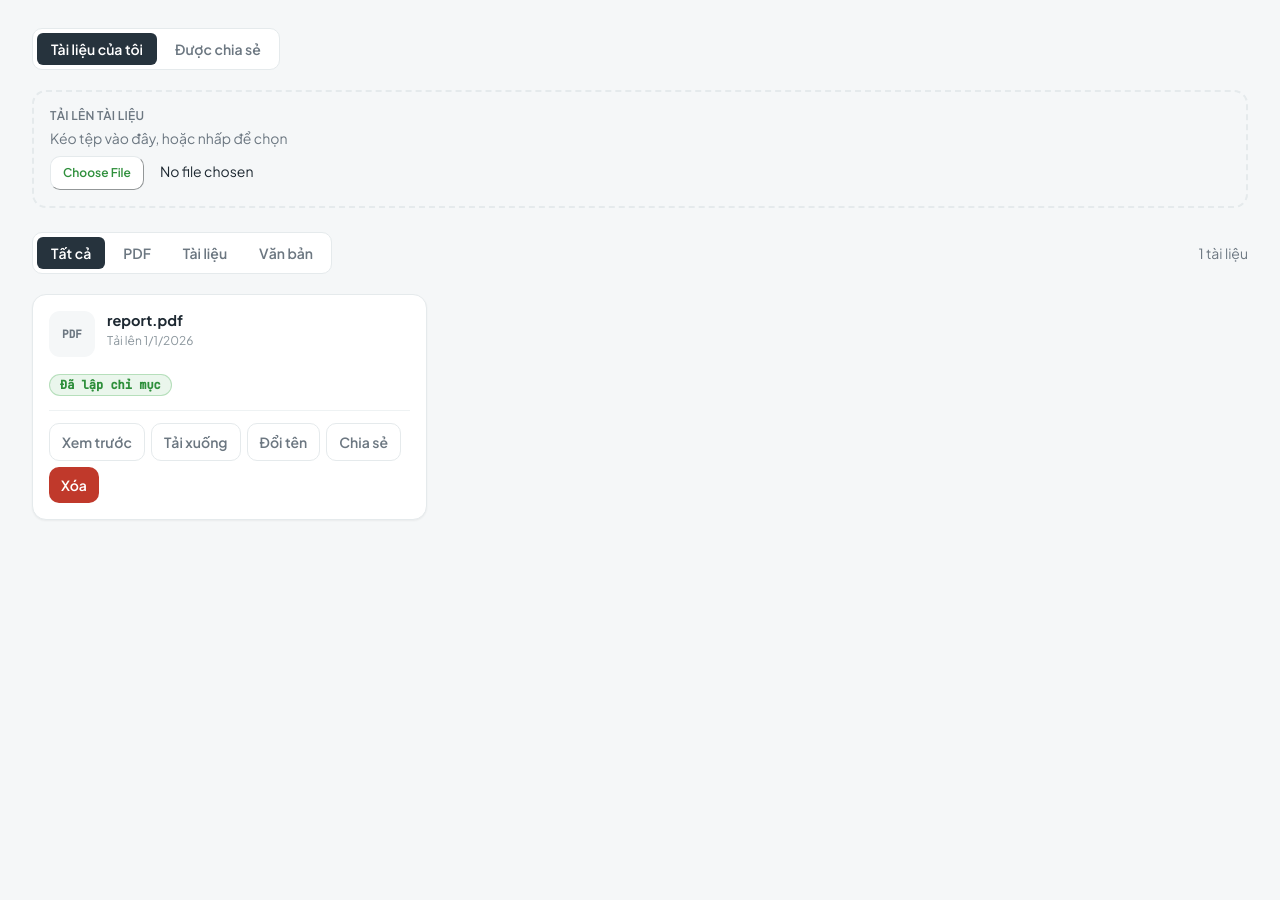
Test: DocumentsPage › opens the share modal and shares a document with a team
This screenshot has width=1280, height=900.
Check: the text "report.pdf" is shown, box [107,311,183,329]
Click the button "Chia sẻ".
click(364, 442)  # box [326,423,401,461]
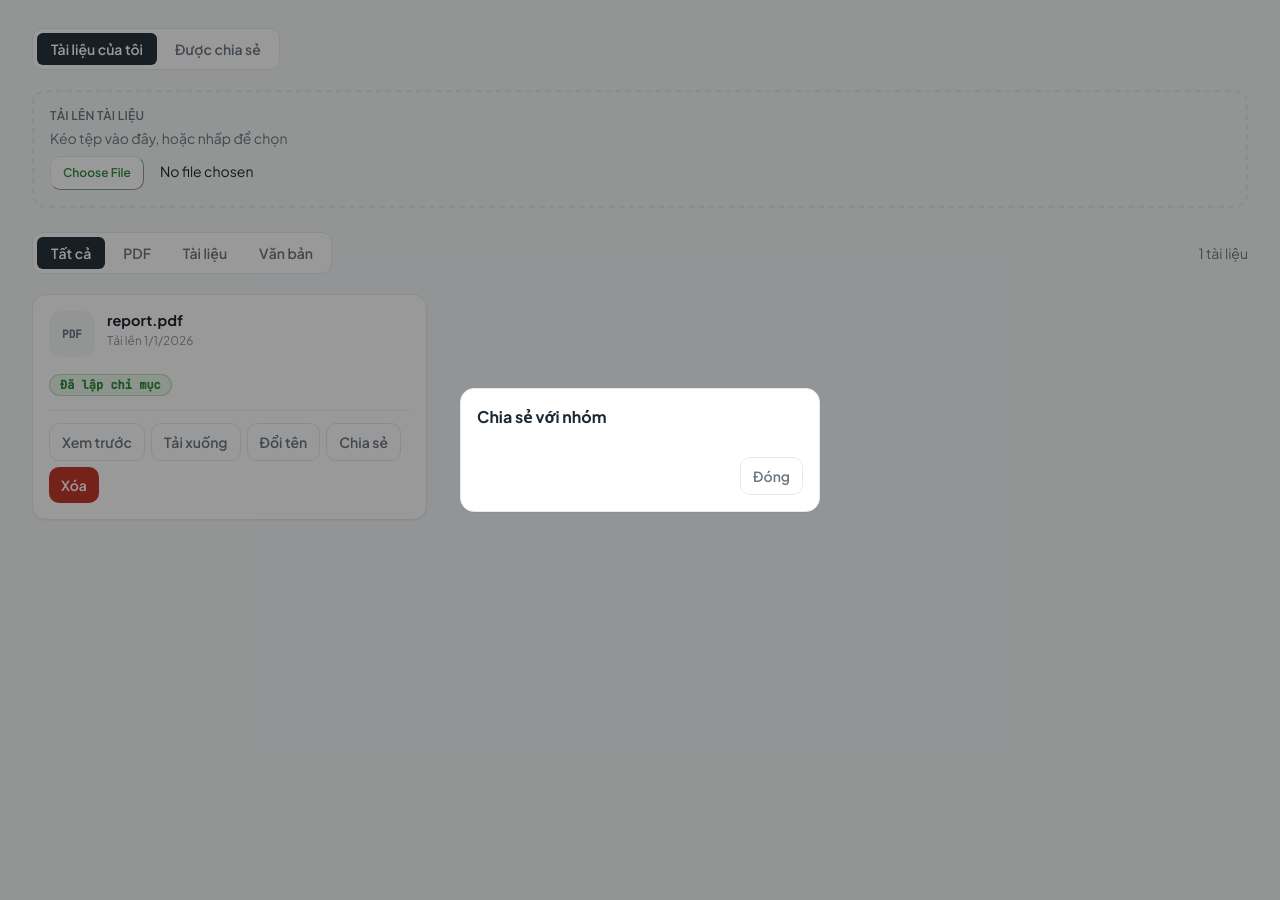
Check: the heading "Chia sẻ với nhóm" is shown, box [477,406,607,427]
